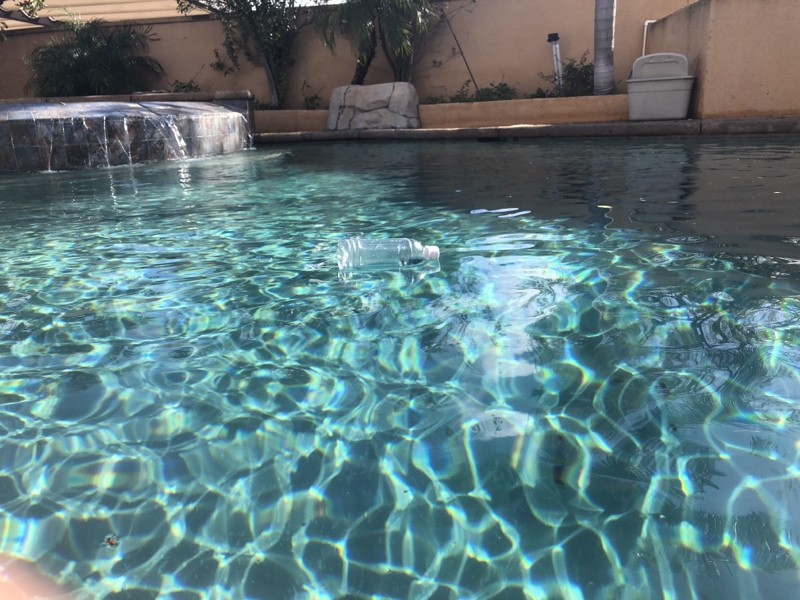Plastic Bottle: (332, 231, 442, 277)
